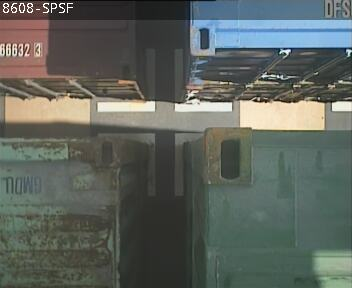groundmarker_1: (97, 49, 232, 113), (98, 131, 200, 196)
